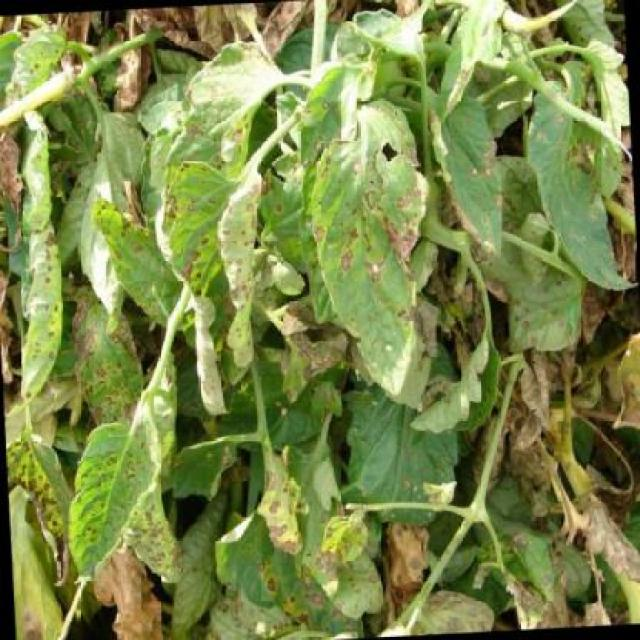Septoria leaf spot: (308, 89, 428, 386), (132, 24, 292, 228), (164, 151, 276, 378), (49, 405, 171, 593), (422, 79, 520, 270), (92, 191, 196, 354), (210, 453, 307, 619)
